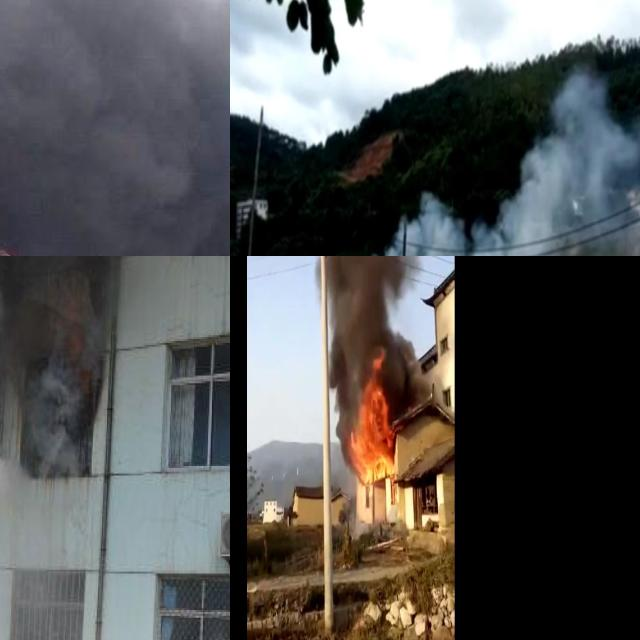fire: (350, 366, 395, 484)
smoke: (0, 0, 230, 256), (341, 76, 640, 256), (0, 256, 121, 481), (286, 256, 442, 418)
